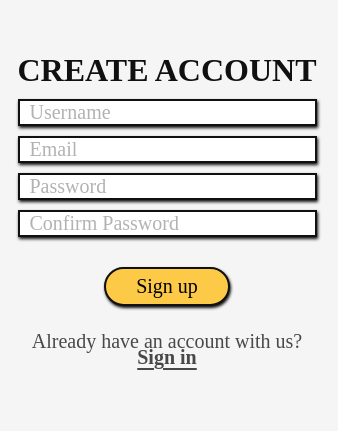
Input Fields › should prevent user from inputting an invalid email address
In the field with placeholder "Email": [167, 149] box x1=18 y1=136 x2=316 y2=162, type "12345@abc"
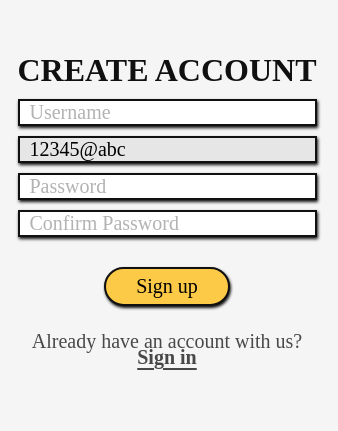
Click the button "Sign up": [167, 286] box x1=104 y1=266 x2=230 y2=306
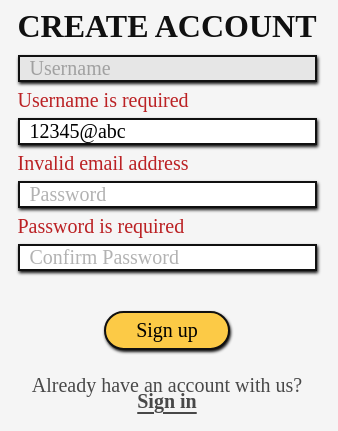
Now the text "Invalid email address" is shown, box x1=18 y1=152 x2=189 y2=174
